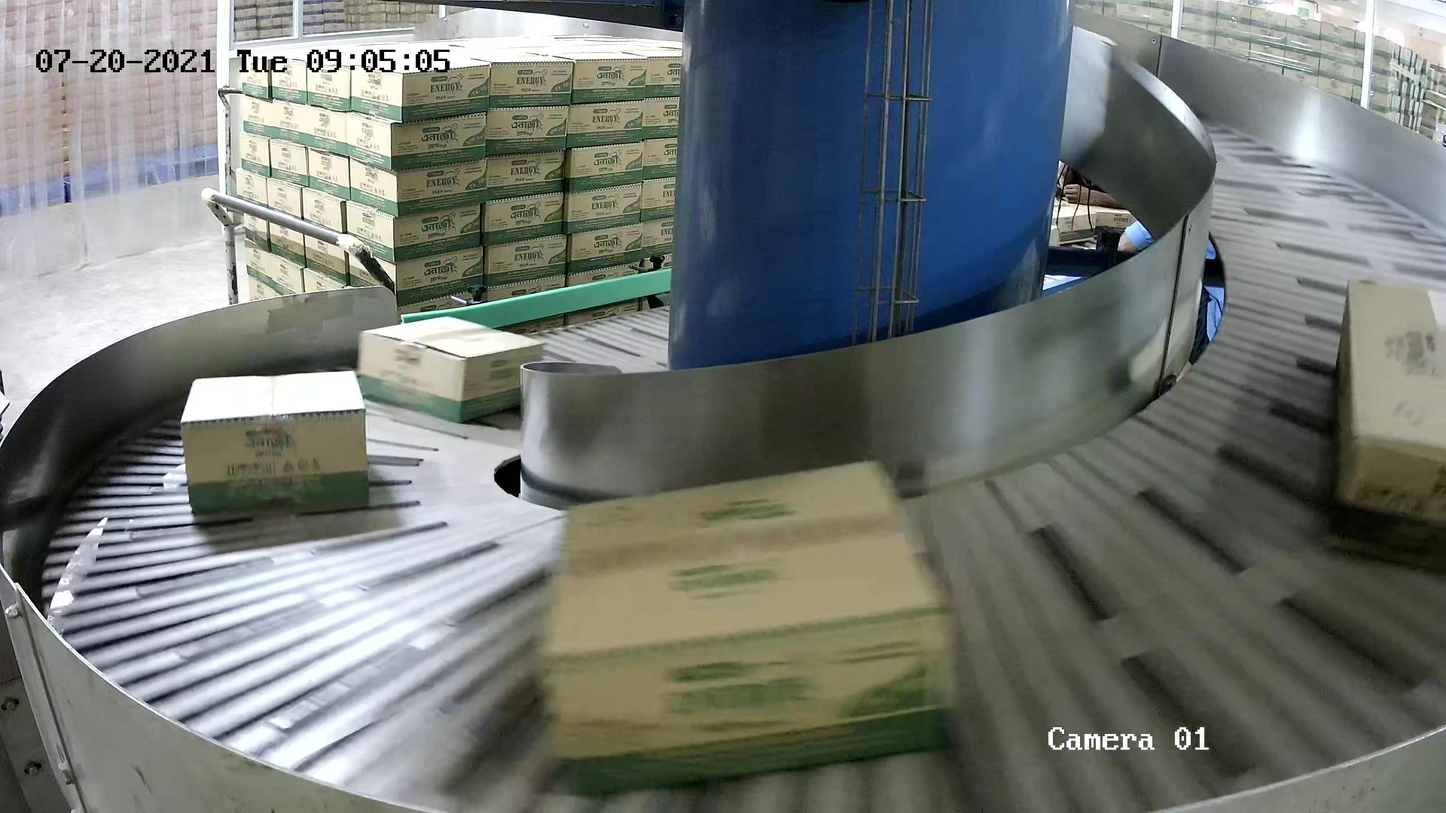Box: (539, 459, 964, 796), (1321, 279, 1446, 578), (180, 366, 376, 523), (358, 315, 543, 425)
